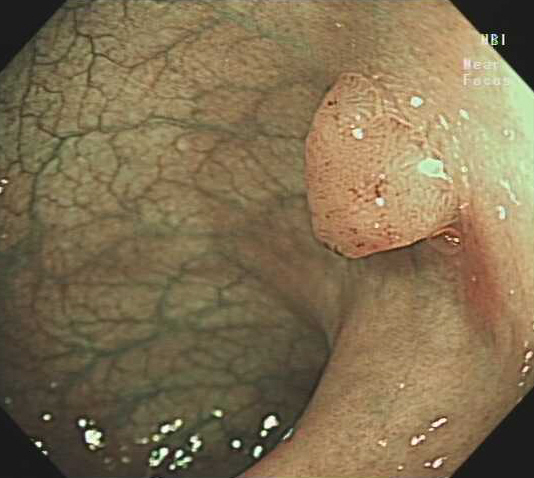adenoma: (300, 69, 464, 263)
